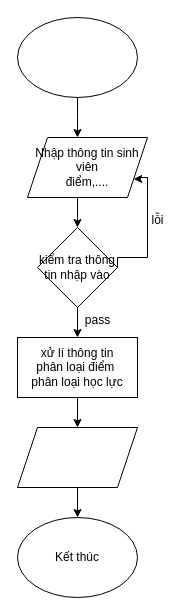
This 195x615 diagram has some shape labels left out. The centre of each missing label's shape, as x and y in pixels:
Bắt đầu: the point at 77,57
xuất kết quả: the point at 77,457
